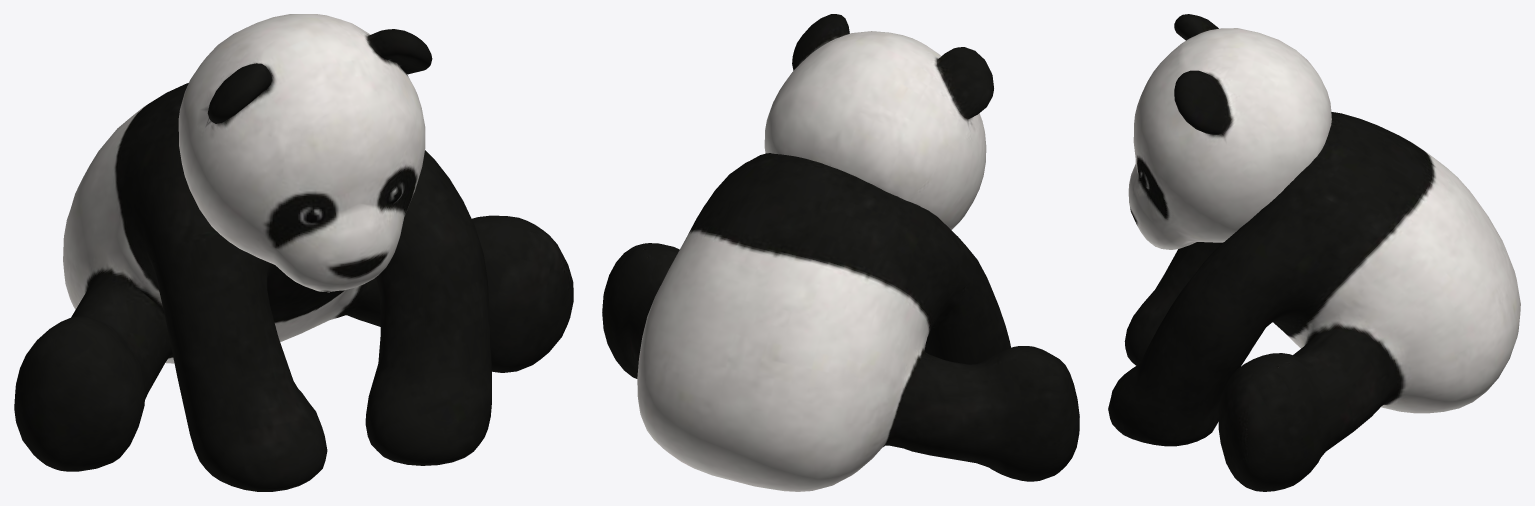
The model's file is kramig_pluszak_30221316.glb.
3 renders of one model, left to right at view 1: azimuth 30°, elevation 25°; view 2: azimuth 150°, elevation 25°; view 3: azimuth 270°, elevation 25°, orthographic. The views are drawn at different scales.
Visible parts, largest first — view 1: kramig_pluszak_30221316; view 2: kramig_pluszak_30221316; view 3: kramig_pluszak_30221316.
Part boxes in pixels (x1,y1,x2,y2): kramig_pluszak_30221316: (14,14,573,491); kramig_pluszak_30221316: (602,14,1079,491); kramig_pluszak_30221316: (1108,14,1520,491).
Size of the model in its own units: 0.4018 by 0.2974 by 0.3131.
1 material, 1 textured.
